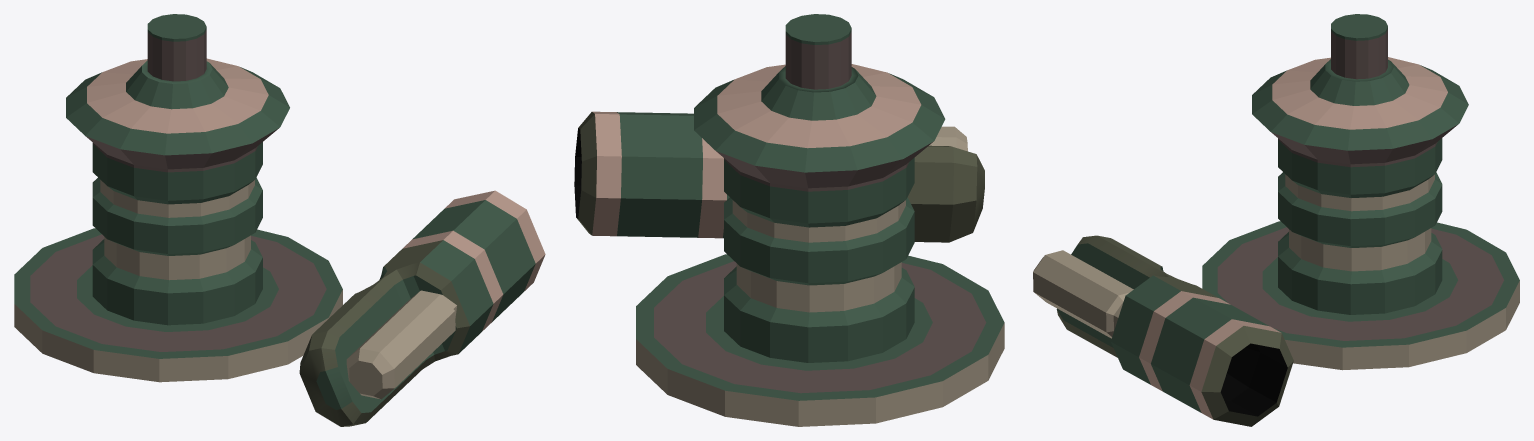
File: NetGunBroken 1.fbx
The picture shows the model from 3 angles, left to right: view 1: azimuth 30°, elevation 25°; view 2: azimuth 150°, elevation 25°; view 3: azimuth 270°, elevation 25°; orthographic projection. The views are drawn at different scales.
Parts seen in each view (by area): view 1: Cube; view 2: Cube; view 3: Cube.
Part boxes in pixels (x1,y1,x2,y2): Cube: [14, 14, 545, 426]; Cube: [574, 14, 1004, 426]; Cube: [1033, 14, 1519, 426].
Size of the model in its own units: 2.44 by 1.63 by 2.46.
